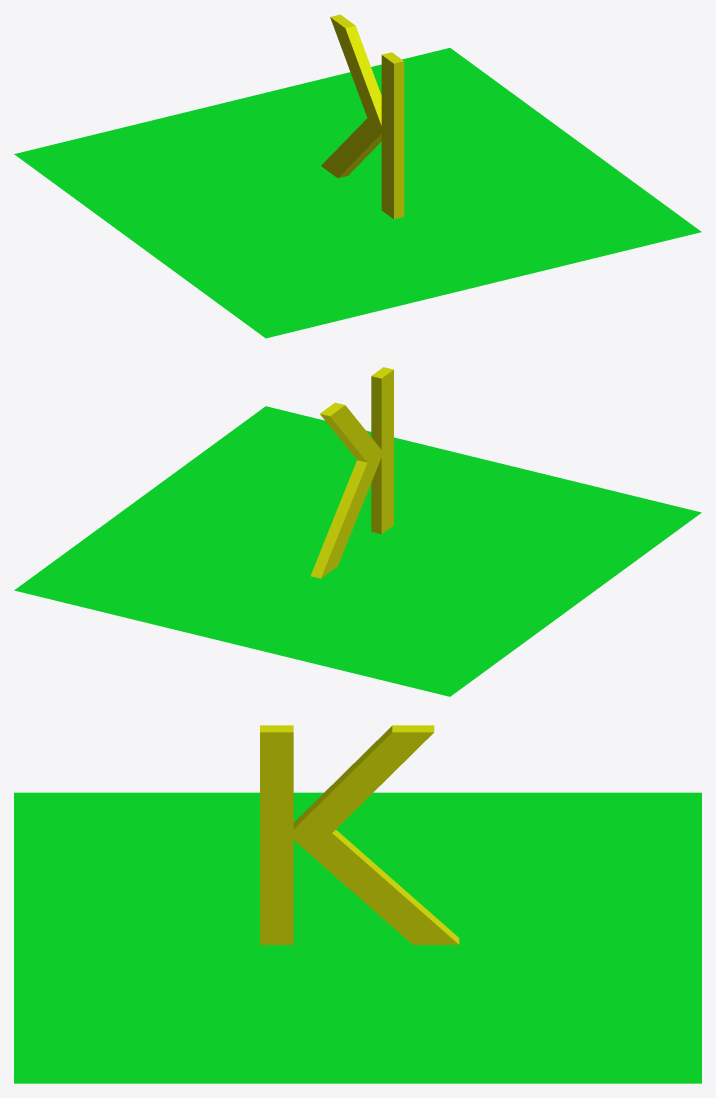
Rendered from house_placeholder_old.glb.
The picture shows the model from 3 angles, top to bottom: view 1: azimuth 30°, elevation 25°; view 2: azimuth 150°, elevation 25°; view 3: azimuth 270°, elevation 25°; orthographic projection. The views are drawn at different scales.
Parts seen in each view (by area): view 1: Plane; view 2: Plane; view 3: Plane.
Boxes of the visible parts, x1,y1,x2,y2 form: Plane: (14, 14, 701, 338); Plane: (14, 367, 701, 696); Plane: (14, 725, 701, 1083).
Size of the model in its own units: 20 by 6.82 by 20.
